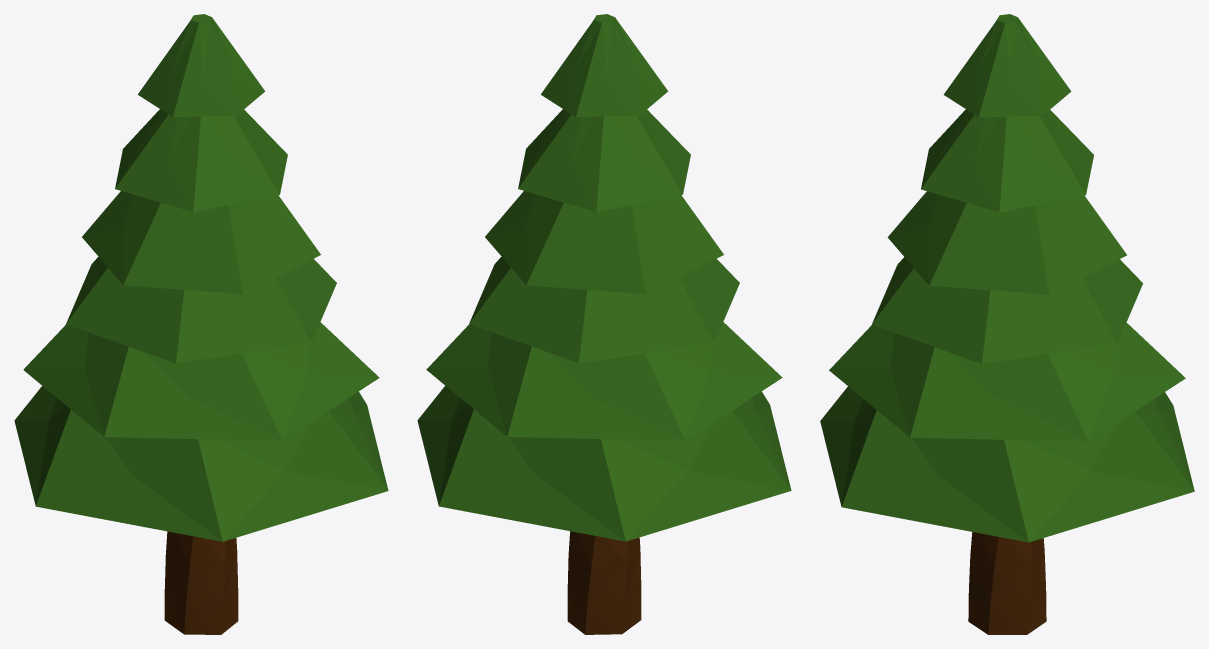
Rendered from spruced.fbx.
3 views of the same model, side by side, from view 1: azimuth 30°, elevation 25°; view 2: azimuth 150°, elevation 25°; view 3: azimuth 270°, elevation 25° (orthographic).
Visible parts, largest first — view 1: spruce1; view 2: spruce1; view 3: spruce1.
Part boxes in pixels (x1,y1,x2,y2): spruce1: [14, 14, 388, 634]; spruce1: [417, 14, 791, 634]; spruce1: [820, 14, 1194, 634].
Bounding box in the file's own units: 4.04 × 6.6 × 3.71.
